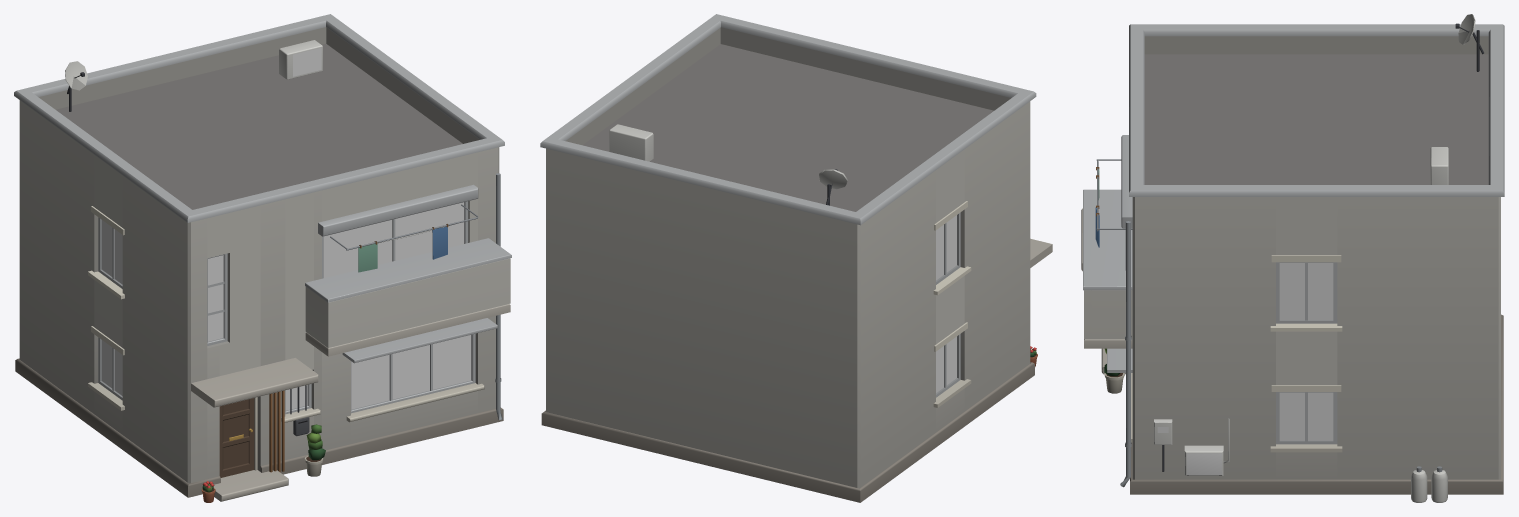
Rendered from HouseFlat.fbx.
3 renders of one model, left to right at view 1: azimuth 30°, elevation 25°; view 2: azimuth 150°, elevation 25°; view 3: azimuth 270°, elevation 25°, orthographic. The views are drawn at different scales.
Visible parts, largest first — view 1: HouseFlat; view 2: HouseFlat; view 3: HouseFlat.
Boxes of the visible parts, box(x1,y1,x2,y2) form: HouseFlat: box(14, 14, 511, 502); HouseFlat: box(540, 14, 1052, 502); HouseFlat: box(1081, 14, 1504, 502).
Bounding box in the file's own units: 8.15 × 7.22 × 8.27.
